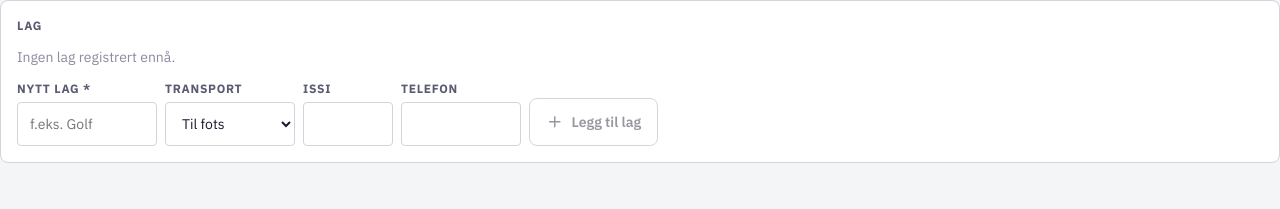
TeamsSetupPanel › shows a visible error line when creating a team fails
Type "Golf" into the field labelled "Nytt lag *".
click(87, 124); type("Golf")  # box [17,102,157,146]
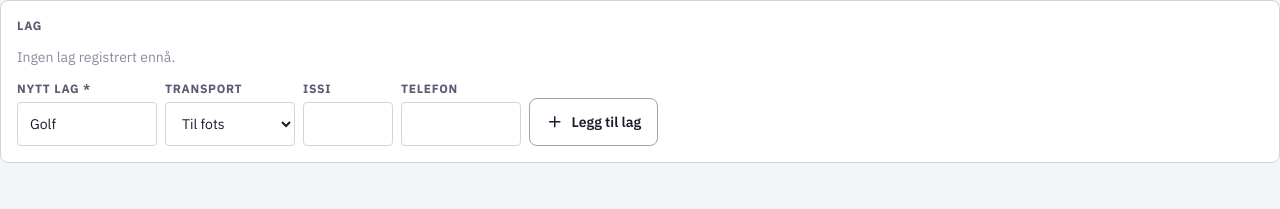
Click the button with test id "event-setup-team-add".
click(594, 122)  # box [529,98,658,146]
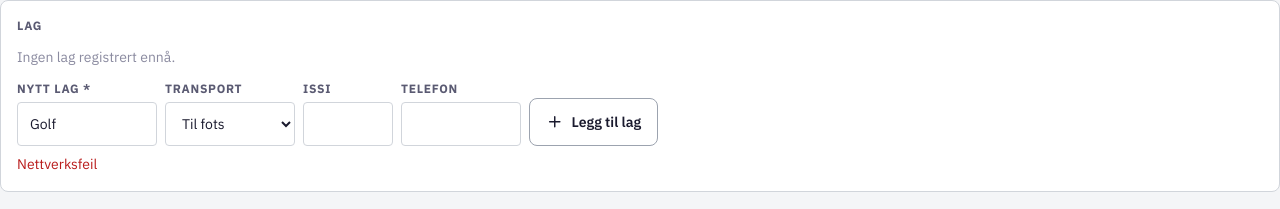
Now the message reads "Nettverksfeil", box [17,155,97,173]
